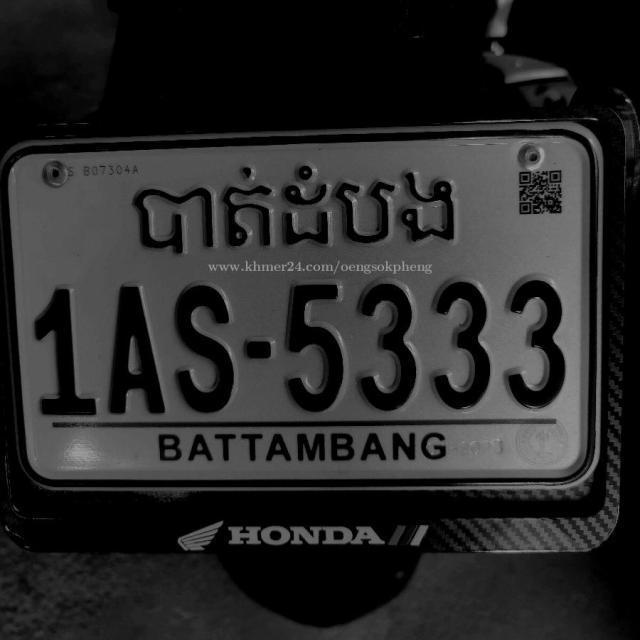Battambang: (128, 156, 473, 261)
